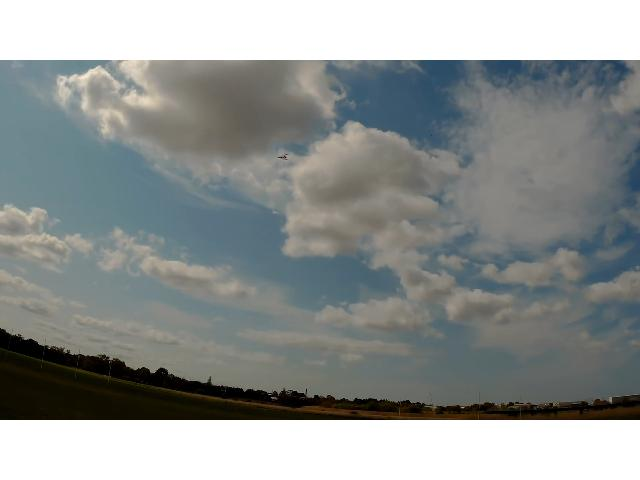Anti-Drone: (278, 154, 288, 160)
